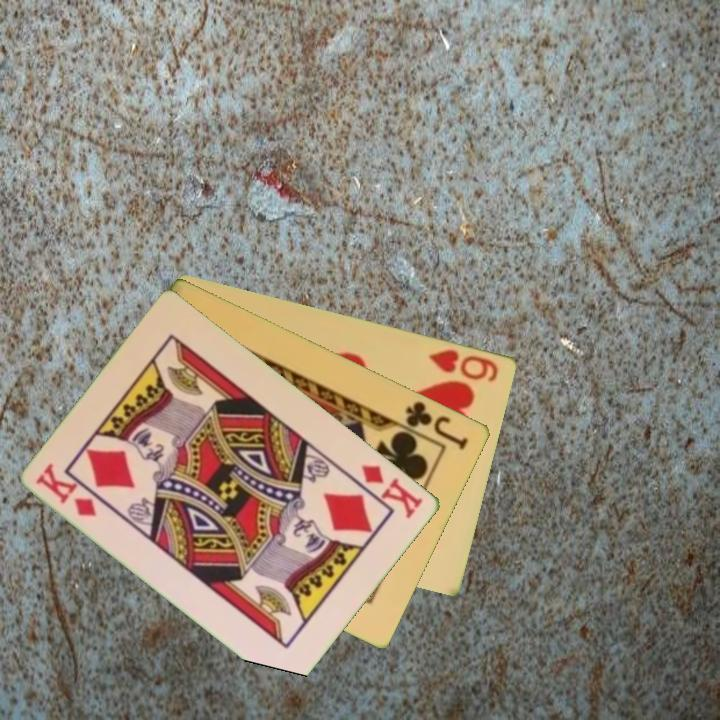6h: (425, 345, 502, 385)
Jc: (402, 397, 472, 453)
Kd: (347, 460, 426, 522), (32, 460, 100, 520)
